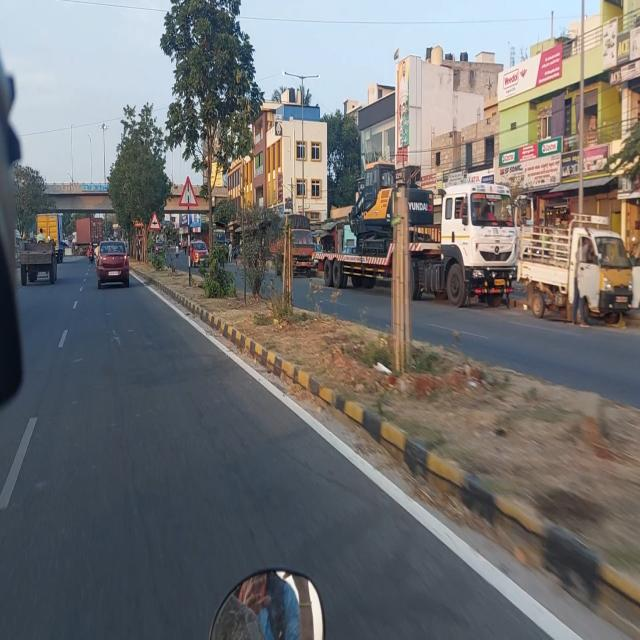bien_cam: (178, 176, 199, 207), (148, 210, 162, 232)
